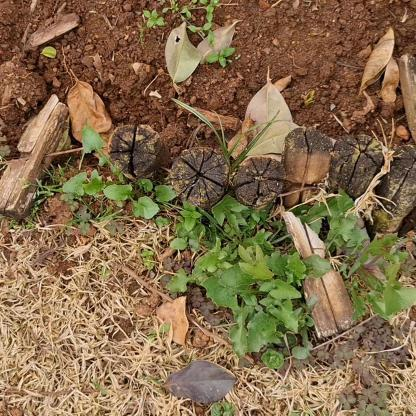Weeds: (61, 123, 415, 370), (141, 0, 235, 72)
